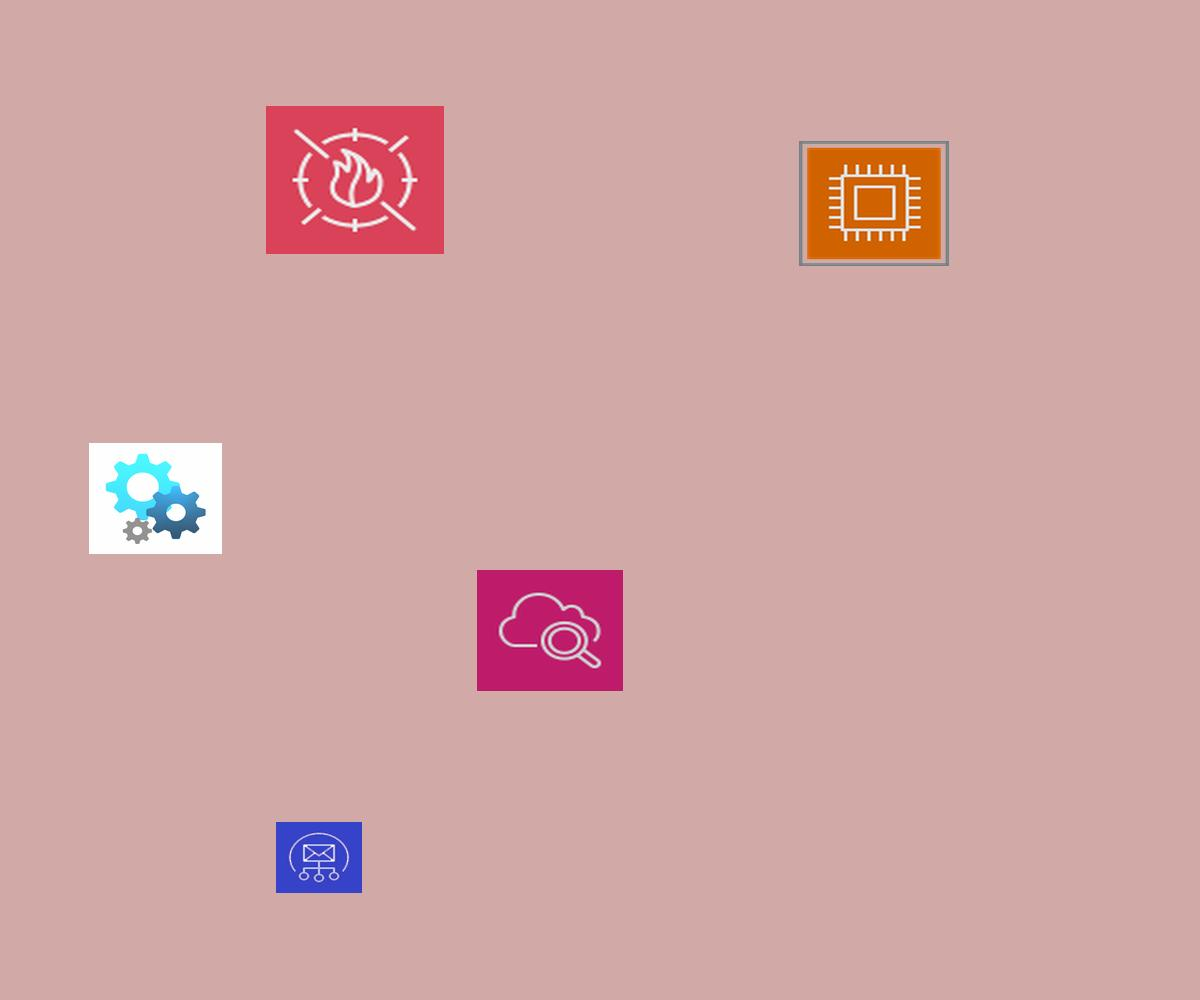AWS-Category_Compute: (799, 141, 949, 266)
AWS-CloudWatch: (477, 570, 623, 691)
AWS-Simple-Email-Service: (276, 822, 362, 893)
AWS-WAF: (266, 106, 444, 254)
Azure_api: (89, 443, 222, 554)
